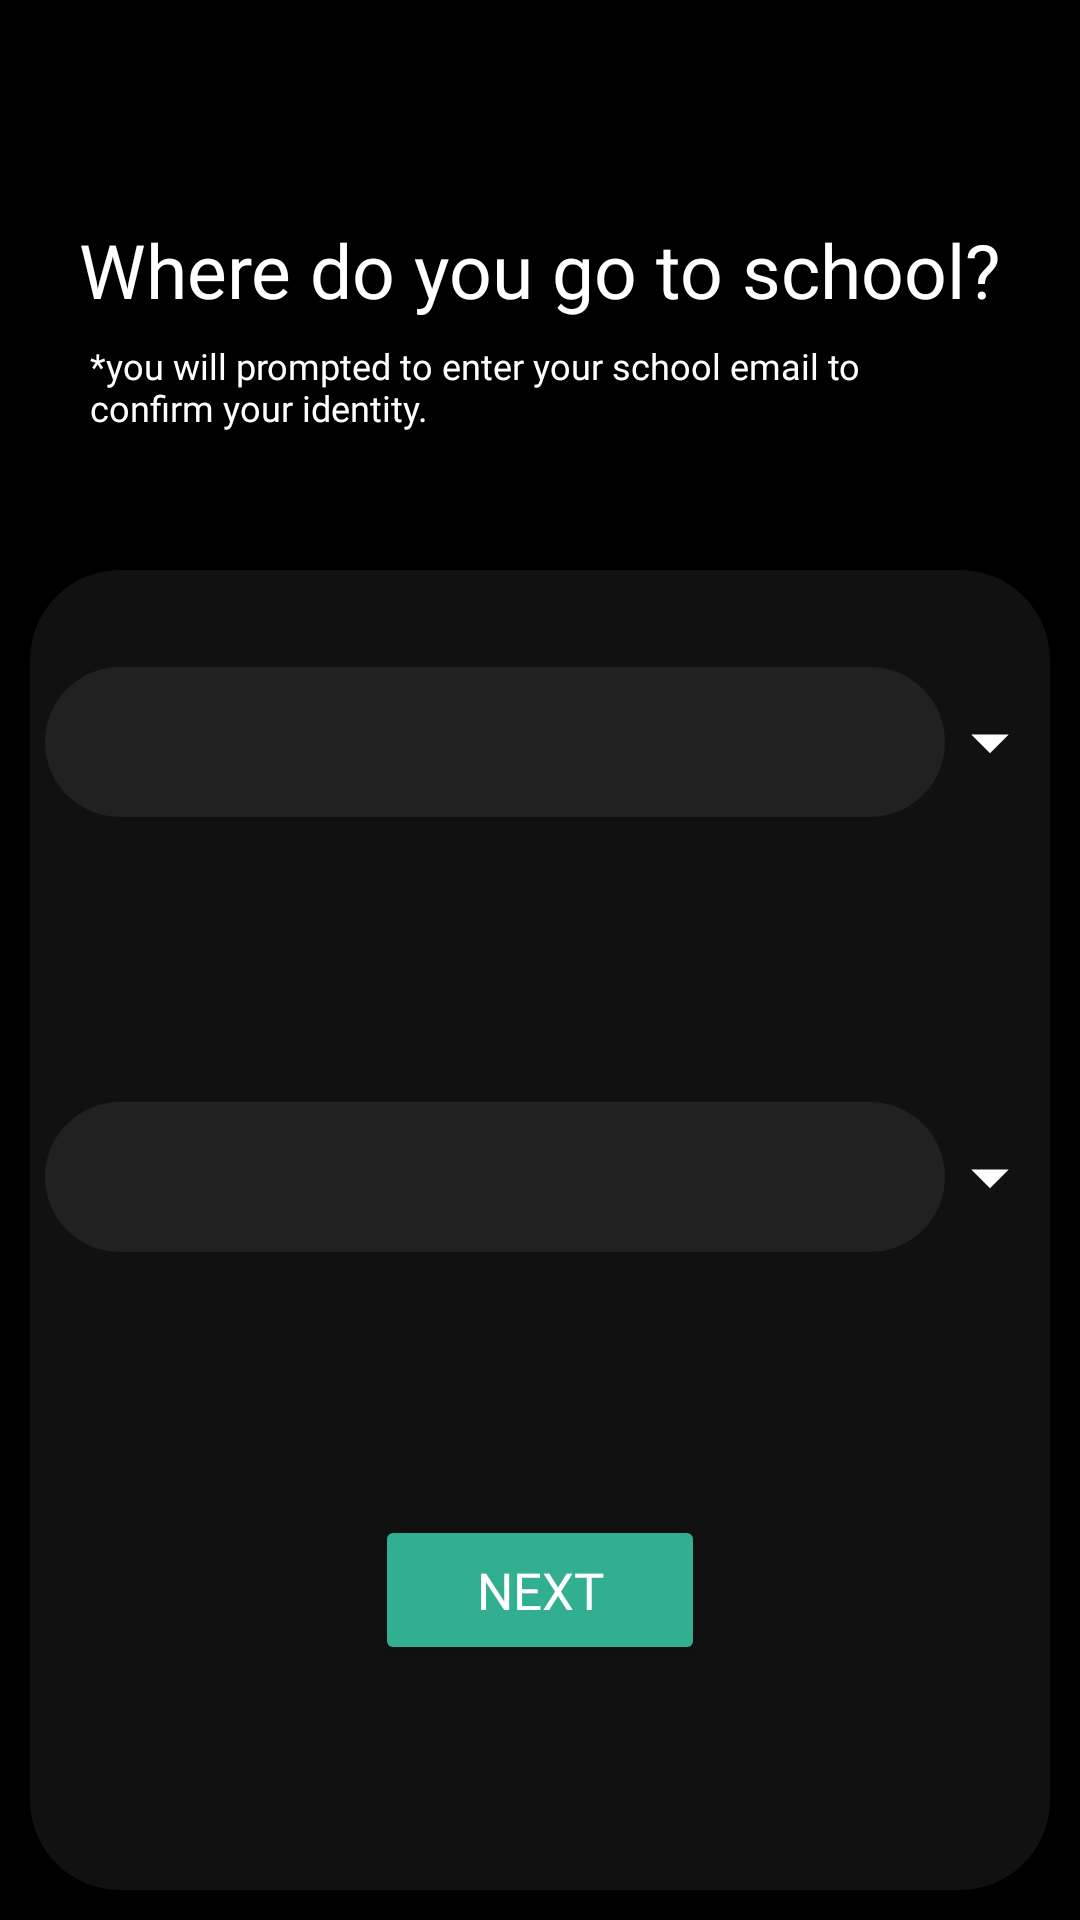

Named icons in this screenshot (1080 × 1920) and their centers, [x,y]:
arrow drop down: [990,743], [990,1178]
